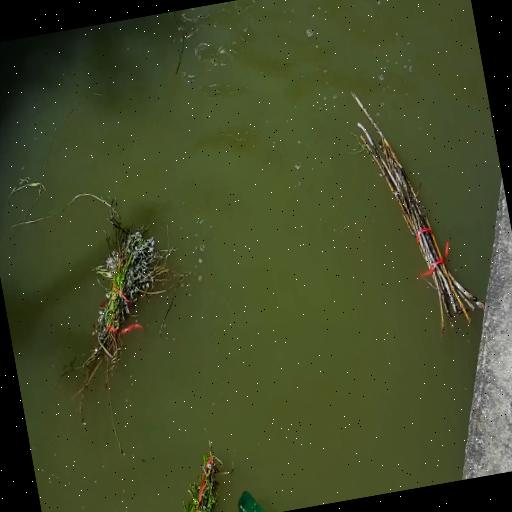plastic: (232, 482, 267, 512)
twig: (349, 76, 489, 343), (56, 202, 182, 385), (163, 450, 233, 512)
